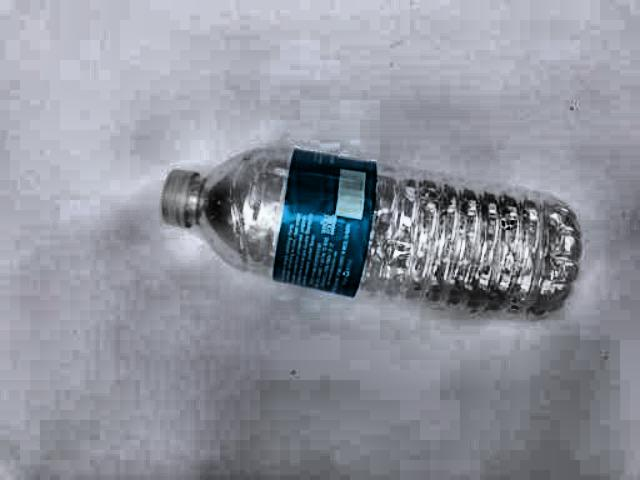Bottles: (144, 143, 591, 327)
